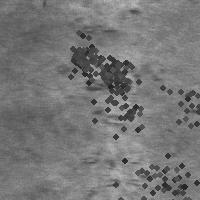rolled-in_scale: (82, 77, 155, 198), (107, 135, 200, 200), (83, 70, 157, 144), (52, 26, 116, 90), (160, 64, 200, 142), (91, 48, 137, 94), (71, 8, 138, 36)
